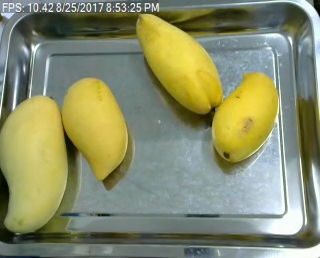Mango: (0, 93, 69, 235), (133, 11, 221, 112), (58, 75, 134, 184), (210, 71, 284, 164)
